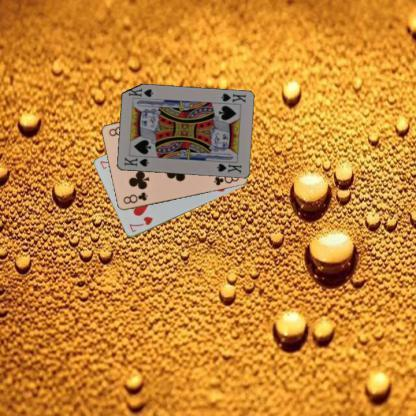7h: (127, 214, 154, 233)
8c: (121, 190, 150, 206)
Ks: (121, 154, 150, 168), (218, 90, 247, 104)
